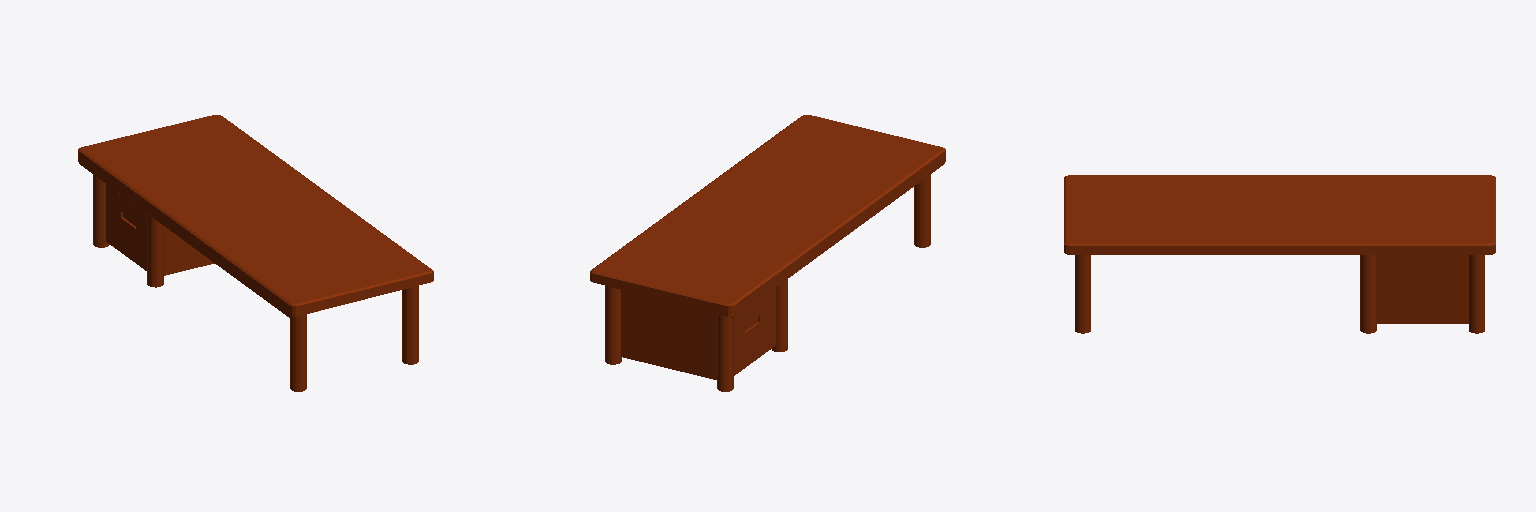
Rendered from desk-drawer.obj.
3 views of the same model, side by side, from view 1: azimuth 30°, elevation 25°; view 2: azimuth 150°, elevation 25°; view 3: azimuth 270°, elevation 25° (orthographic).
Parts seen in each view (by area): view 1: Desk_Plane.001; view 2: Desk_Plane.001; view 3: Desk_Plane.001.
Part boxes in pixels (x1,y1,x2,y2): Desk_Plane.001: (78,115,433,391); Desk_Plane.001: (590,115,945,391); Desk_Plane.001: (1064,175,1495,333).
Size of the model in its own units: 2.29 by 1.43 by 5.99.